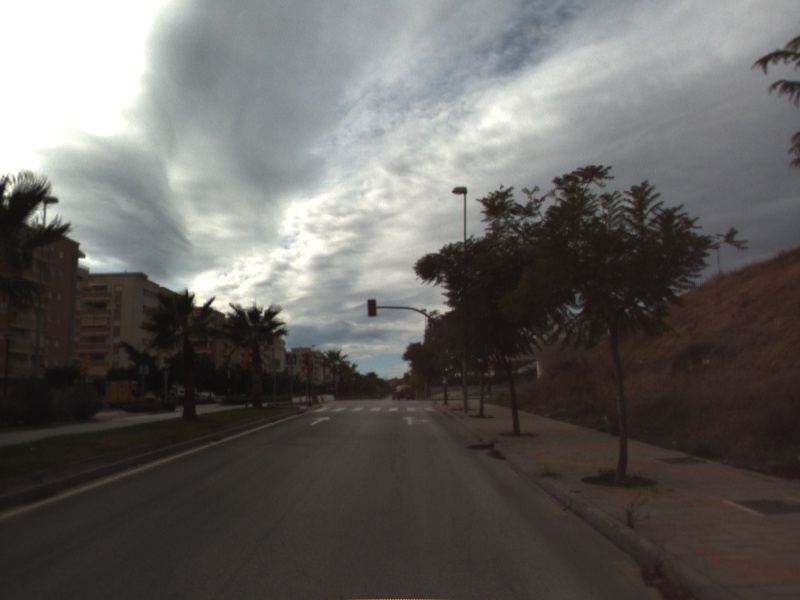STRAIGHT: (308, 414, 332, 427)
STRAIGHT_RIGHT: (400, 414, 432, 426)
